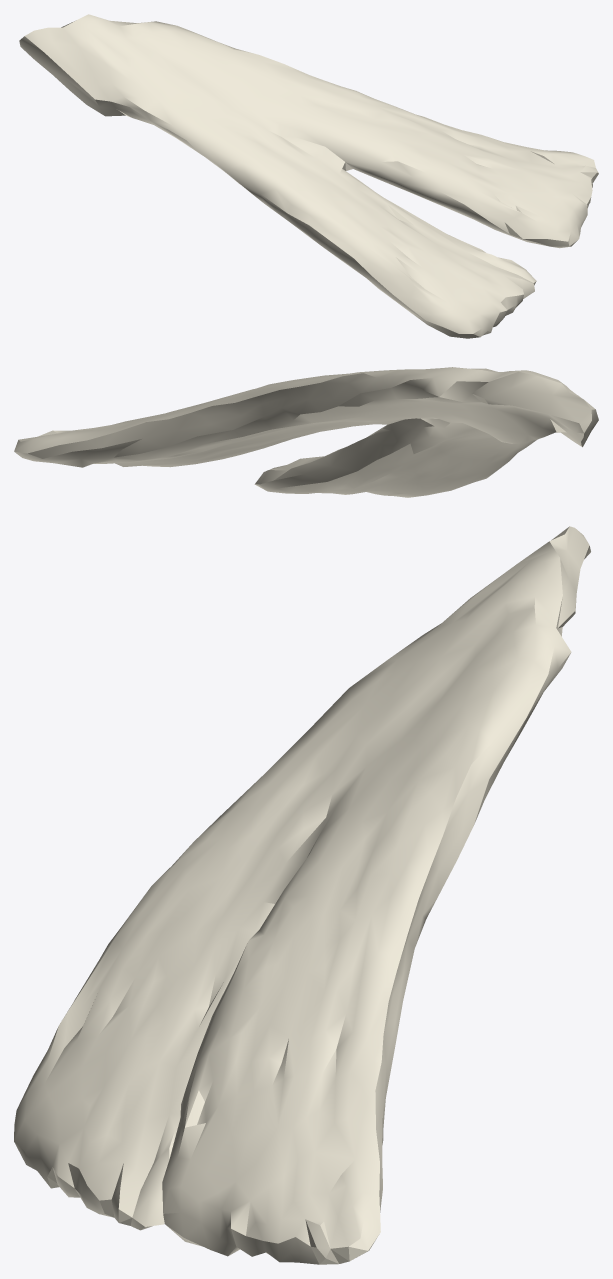
Rendered from fma26002_mm1562m.glb.
3 renders of one model, top to bottom at view 1: azimuth 30°, elevation 25°; view 2: azimuth 150°, elevation 25°; view 3: azimuth 270°, elevation 25°, orthographic. The views are drawn at different scales.
Parts seen in each view (by area): view 1: FMA26002_MM1562M; view 2: FMA26002_MM1562M; view 3: FMA26002_MM1562M.
Boxes of the visible parts, x1=… form: FMA26002_MM1562M: x1=19, y1=14, x2=598, y2=338; FMA26002_MM1562M: x1=14, y1=367, x2=598, y2=497; FMA26002_MM1562M: x1=14, y1=526, x2=590, y2=1264.
Bounding box in the file's own units: 0.0311 × 0.0157 × 0.0191.
